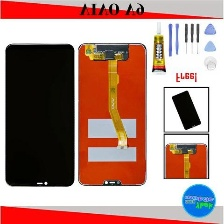phone: (2, 42, 76, 191), (77, 41, 148, 187), (170, 89, 203, 131)
